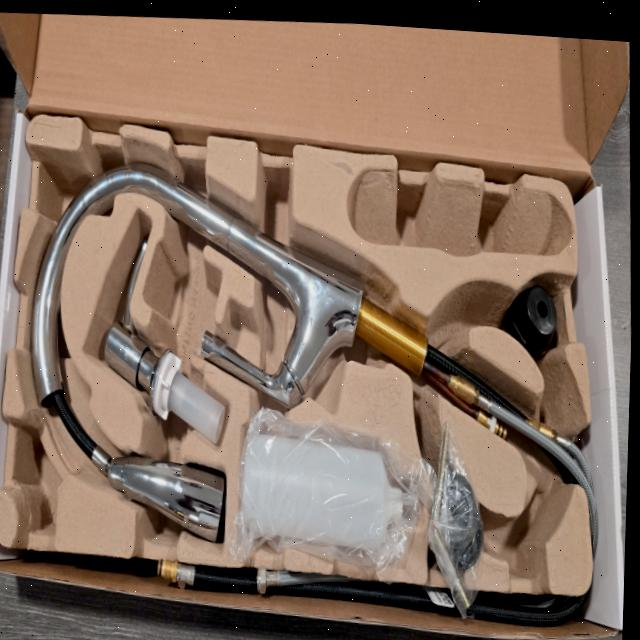1: (30, 159, 590, 542)
2: (102, 240, 225, 443)
3: (240, 433, 421, 553)
4m: (346, 170, 571, 257)
5: (501, 281, 558, 360)
6m: (492, 482, 561, 581)
7: (424, 419, 485, 619)
